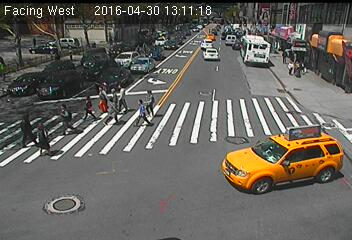neg: (327, 90, 350, 121), (288, 96, 307, 122), (307, 80, 322, 100), (84, 60, 98, 79), (176, 29, 188, 45), (247, 22, 257, 36), (168, 40, 178, 54), (215, 23, 223, 33), (101, 46, 108, 54), (236, 25, 241, 32)
